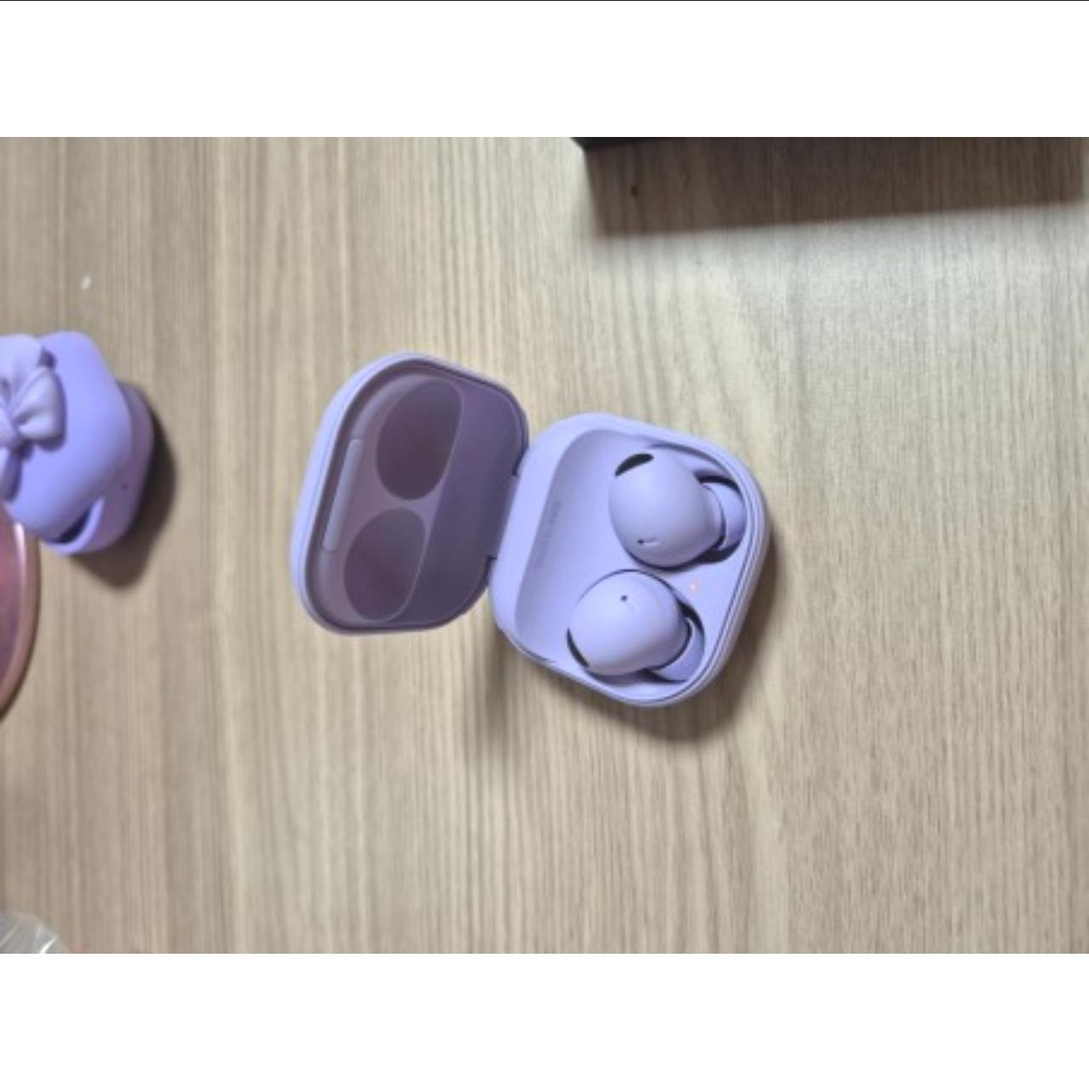Buds: (279, 346, 801, 734)
Buds_Units: (603, 433, 751, 576), (559, 564, 710, 700)
